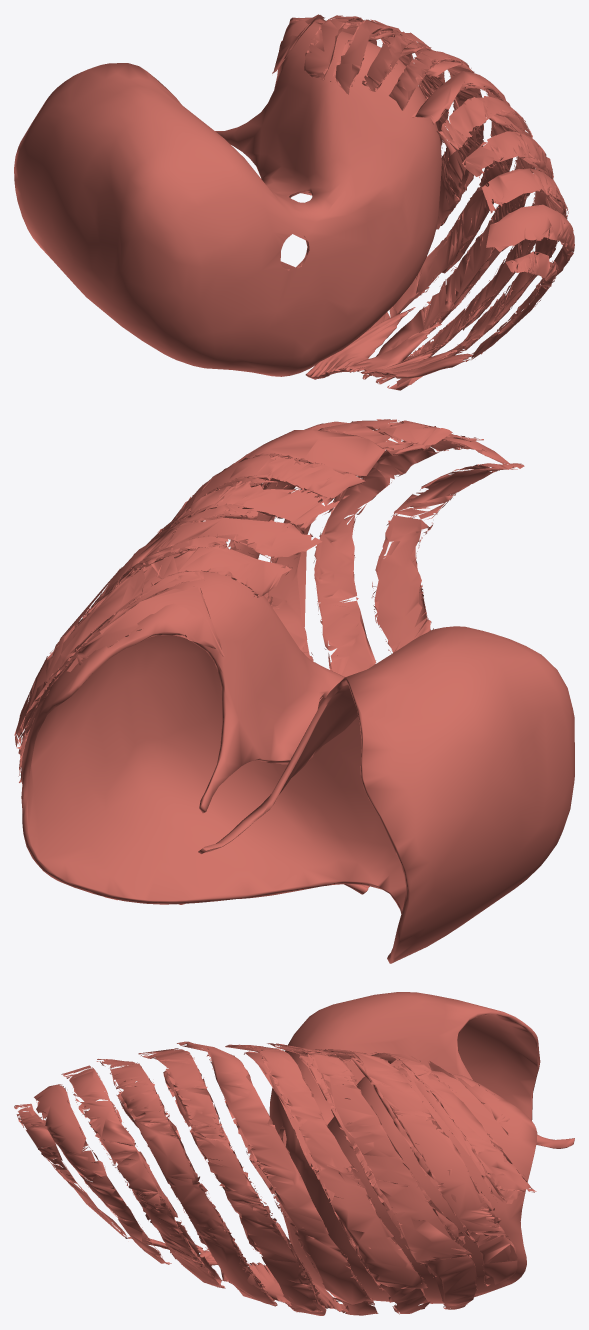
File: diaphragm.glb
3 views of the same model, one above another, from view 1: azimuth 30°, elevation 25°; view 2: azimuth 150°, elevation 25°; view 3: azimuth 270°, elevation 25° (orthographic). The views are drawn at different scales.
Visible parts, largest first — view 1: diaphragm, external intercostal muscle, innermost intercostal muscle, internal intercostal muscle, left transversus thoracis; view 2: diaphragm, external intercostal muscle, internal intercostal muscle, innermost intercostal muscle; view 3: external intercostal muscle, diaphragm, internal intercostal muscle, innermost intercostal muscle, left transversus thoracis.
Boxes of the visible parts, <box> form: diaphragm: <box>14,17,441,376</box>; external intercostal muscle: <box>304,15,574,361</box>; innermost intercostal muscle: <box>342,21,562,352</box>; internal intercostal muscle: <box>272,14,565,390</box>; left transversus thoracis: <box>305,307,474,379</box>; diaphragm: <box>22,568,574,963</box>; external intercostal muscle: <box>14,419,524,782</box>; internal intercostal muscle: <box>20,454,313,904</box>; innermost intercostal muscle: <box>18,453,322,756</box>; external intercostal muscle: <box>14,1041,536,1311</box>; diaphragm: <box>269,992,574,1303</box>; internal intercostal muscle: <box>90,1051,523,1315</box>; innermost intercostal muscle: <box>88,1051,514,1303</box>; left transversus thoracis: <box>128,1237,341,1311</box>.
Bounding box in the file's own units: 258 × 206 × 379.
